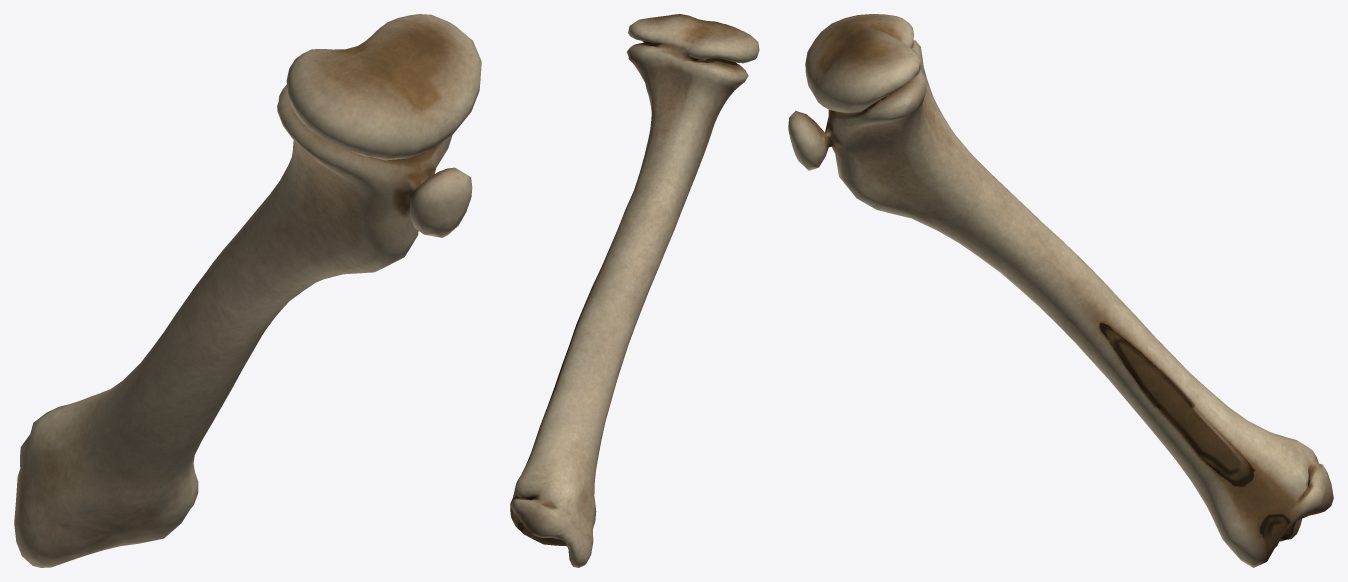
Rendered from Tibia.glb.
3 views of the same model, side by side, from view 1: azimuth 30°, elevation 25°; view 2: azimuth 150°, elevation 25°; view 3: azimuth 270°, elevation 25° (orthographic). The views are drawn at different scales.
Parts seen in each view (by area): view 1: Tibia_Left1:Group41927; view 2: Tibia_Left1:Group41927; view 3: Tibia_Left1:Group41927.
Part boxes in pixels (left/top/right/bottom): Tibia_Left1:Group41927: left=14, top=14, right=481, bottom=567; Tibia_Left1:Group41927: left=510, top=14, right=759, bottom=567; Tibia_Left1:Group41927: left=788, top=14, right=1333, bottom=567.
Size of the model in its own units: 29.2 by 103 by 94.15.
1 material, 1 textured.
